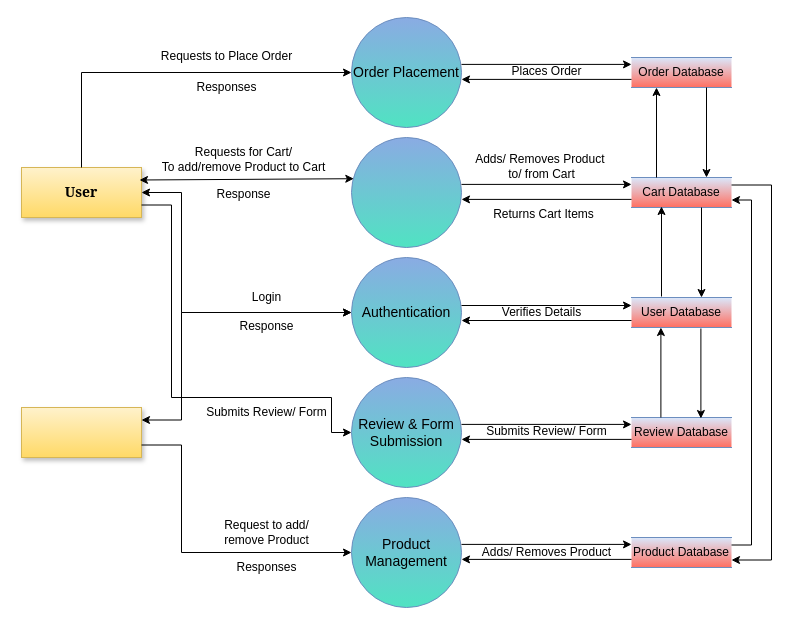
This 797x625 diagram has some shape labels left out. Here are the shapes that lost their labels. From the top down, the centre of each, then its label:
the point at 406,192: Cart Management
the point at 82,433: Admin
